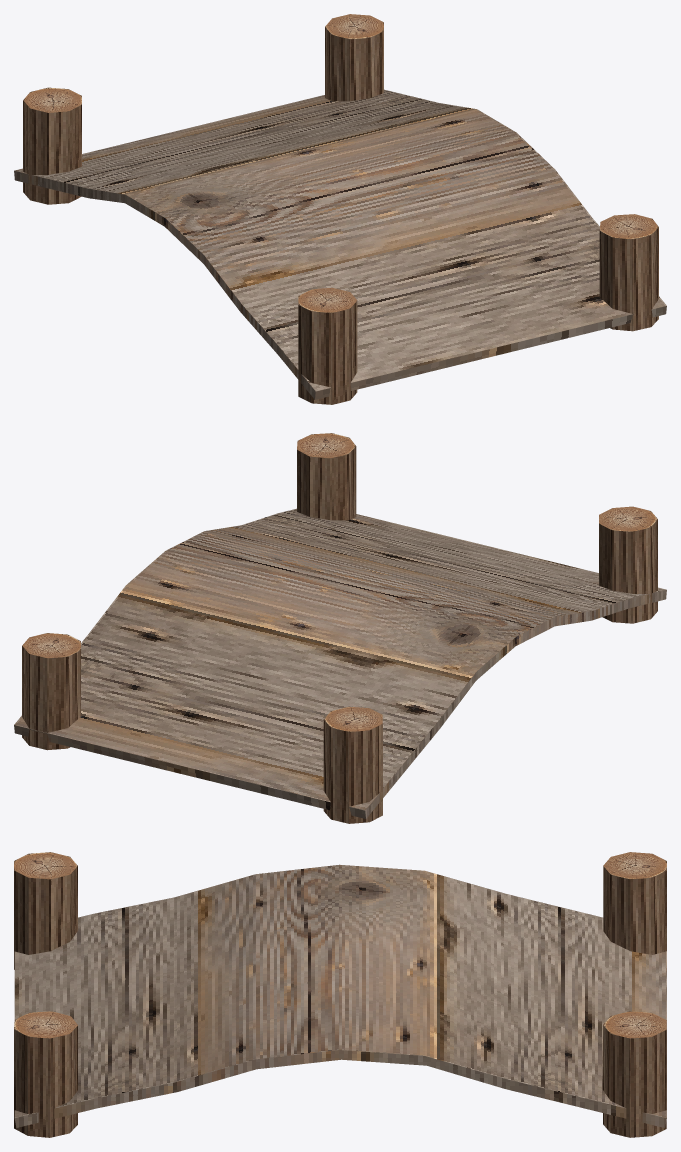
File: wood_bridge.glb
The picture shows the model from 3 angles, top to bottom: view 1: azimuth 30°, elevation 25°; view 2: azimuth 150°, elevation 25°; view 3: azimuth 270°, elevation 25°; orthographic projection. The views are drawn at different scales.
Parts seen in each view (by area): view 1: wood_bridge-col; view 2: wood_bridge-col; view 3: wood_bridge-col.
Boxes of the visible parts, x1=… form: wood_bridge-col: x1=14, y1=14, x2=666, y2=404; wood_bridge-col: x1=14, y1=433, x2=666, y2=823; wood_bridge-col: x1=14, y1=852, x2=666, y2=1137.
Size of the model in its own units: 4.03 by 1 by 5.96.
2 materials, 2 textured.
